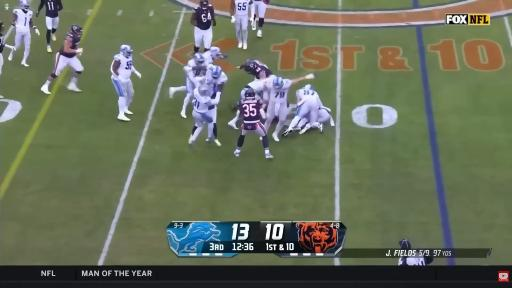Helmet: (210, 47, 225, 59), (71, 24, 83, 38), (243, 59, 255, 73), (120, 45, 132, 57), (211, 66, 222, 79), (193, 54, 205, 65), (198, 85, 209, 96), (244, 59, 254, 71), (273, 77, 283, 89), (244, 88, 255, 98), (20, 0, 29, 10), (200, 0, 208, 8), (303, 85, 313, 90), (0, 22, 4, 32)
Jersey: (205, 70, 227, 99), (267, 79, 291, 103), (239, 99, 262, 123), (205, 70, 227, 94), (111, 54, 132, 79), (194, 5, 214, 30), (296, 89, 322, 108), (248, 60, 273, 79), (193, 88, 211, 113), (241, 81, 267, 98), (14, 9, 32, 31), (40, 0, 62, 18), (235, 0, 252, 17), (65, 33, 80, 49), (203, 51, 213, 65), (188, 70, 205, 76), (0, 34, 4, 53)
Player: (169, 47, 226, 118), (265, 74, 314, 141), (41, 24, 83, 94), (234, 88, 273, 158), (170, 54, 206, 118), (111, 45, 141, 121), (199, 65, 227, 146), (283, 85, 323, 137), (189, 84, 219, 145), (12, 0, 39, 66), (238, 59, 275, 107), (36, 0, 63, 52), (191, 0, 216, 52), (231, 0, 254, 49), (240, 80, 268, 108), (0, 22, 15, 74), (238, 59, 273, 79), (252, 0, 269, 37), (203, 47, 227, 65), (318, 107, 334, 132)
